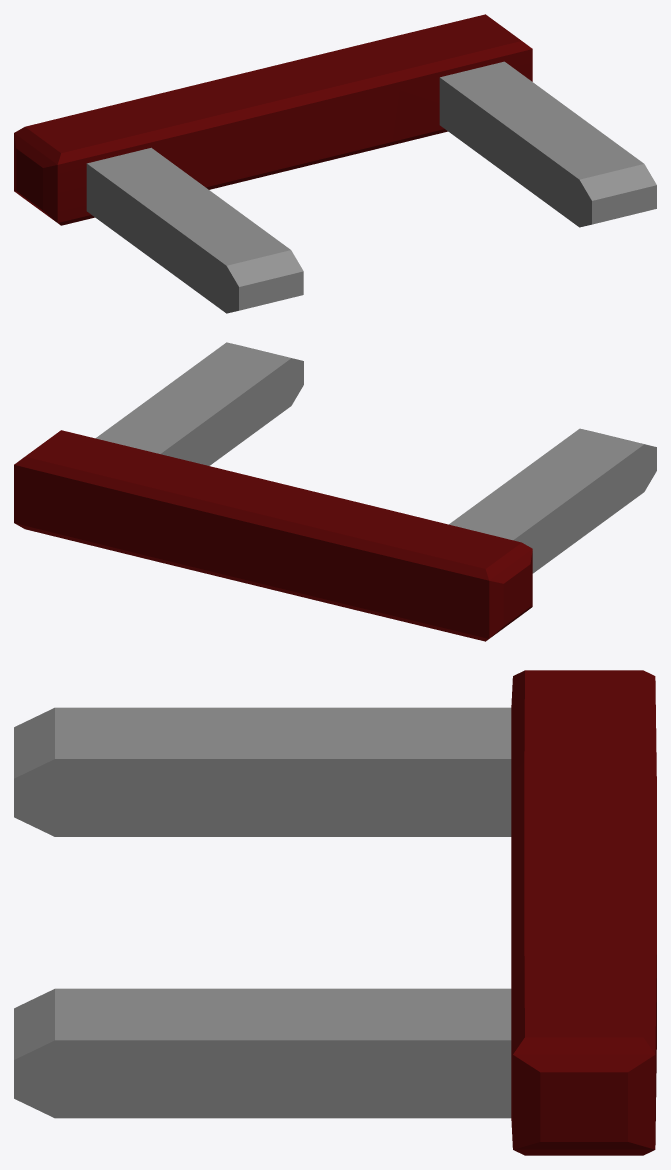
Rendered from LeverArm.fbx.
The picture shows the model from 3 angles, top to bottom: view 1: azimuth 30°, elevation 25°; view 2: azimuth 150°, elevation 25°; view 3: azimuth 270°, elevation 25°; orthographic projection. The views are drawn at different scales.
Visible parts, largest first — view 1: pCube2; view 2: pCube2; view 3: pCube2.
Boxes of the visible parts, left/top/right/bottom form: pCube2: left=14, top=14, right=656, bottom=313; pCube2: left=14, top=342, right=656, bottom=641; pCube2: left=14, top=670, right=656, bottom=1155.
Size of the model in its own units: 0.2826 by 0.0402 by 0.1978.
